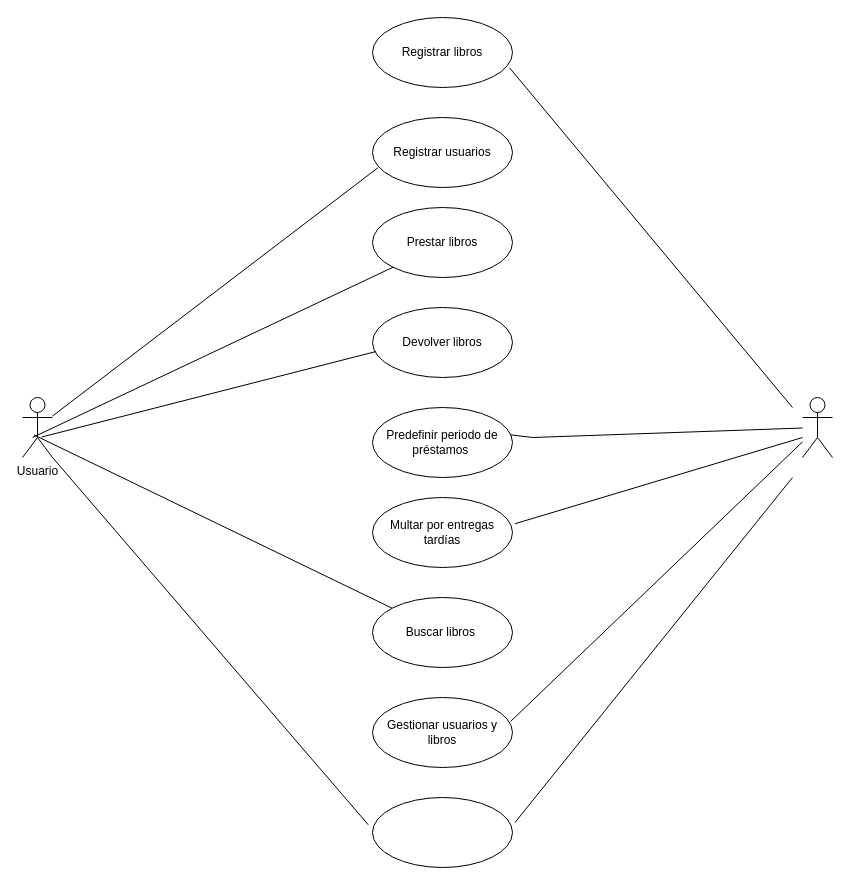
The diagram is 854 pixels wide and 885 high, and some of its shapes have lost their labels. Each missing label, with the box of its shape:
Admon: (802, 396, 832, 458)
Creara historial de transacciones: (372, 796, 512, 868)
